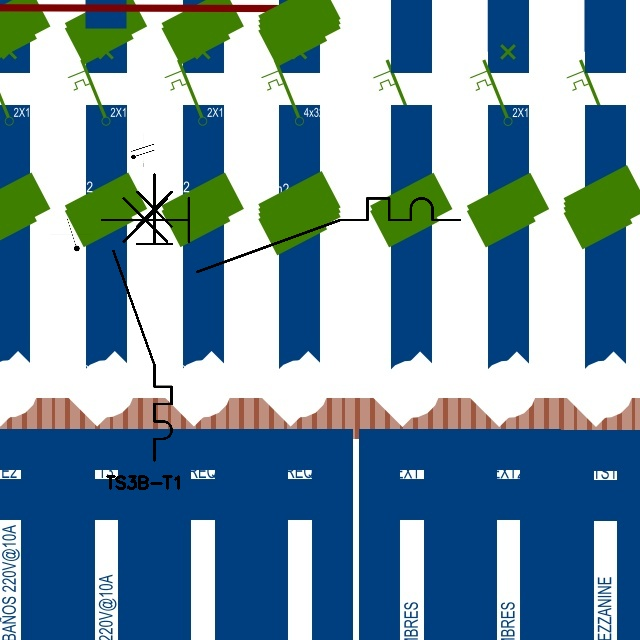interruptor_termomagnetico: (92, 189, 468, 281), (106, 167, 179, 468)
